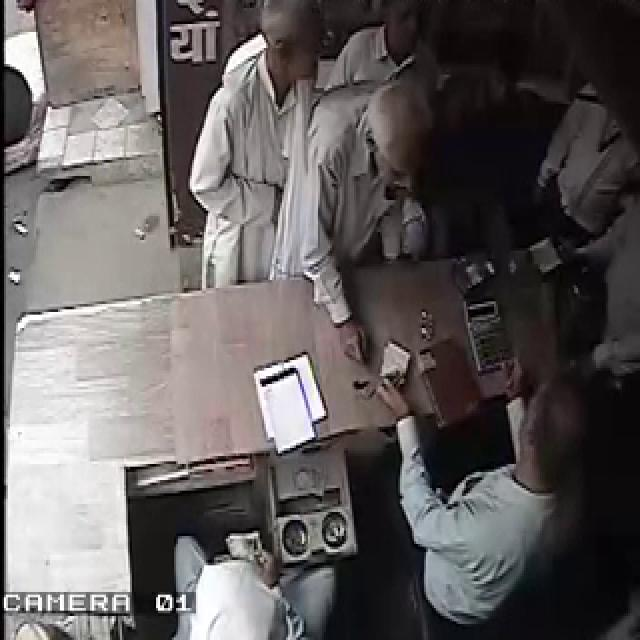shoplifting: (201, 7, 516, 311)
